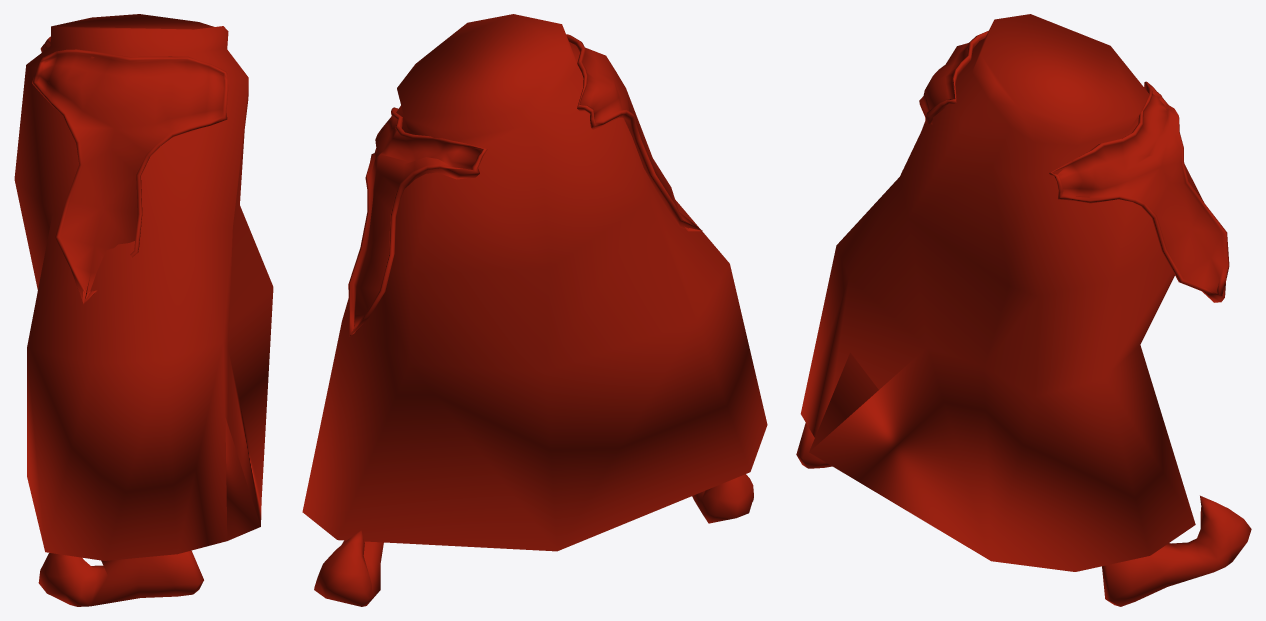
Rendered from bot_000042.obj.
3 renders of one model, left to right at view 1: azimuth 30°, elevation 25°; view 2: azimuth 150°, elevation 25°; view 3: azimuth 270°, elevation 25°, orthographic. The views are drawn at different scales.
Visible parts, largest first — view 1: LowPoly_Warlock.004_Plane.004; view 2: LowPoly_Warlock.004_Plane.004; view 3: LowPoly_Warlock.004_Plane.004.
Boxes of the visible parts, bbox=[...] form: LowPoly_Warlock.004_Plane.004: bbox=[14, 14, 273, 606]; LowPoly_Warlock.004_Plane.004: bbox=[302, 14, 767, 606]; LowPoly_Warlock.004_Plane.004: bbox=[796, 14, 1251, 606].
Bounding box in the file's own units: 0.6916 × 1.14 × 0.9013.
